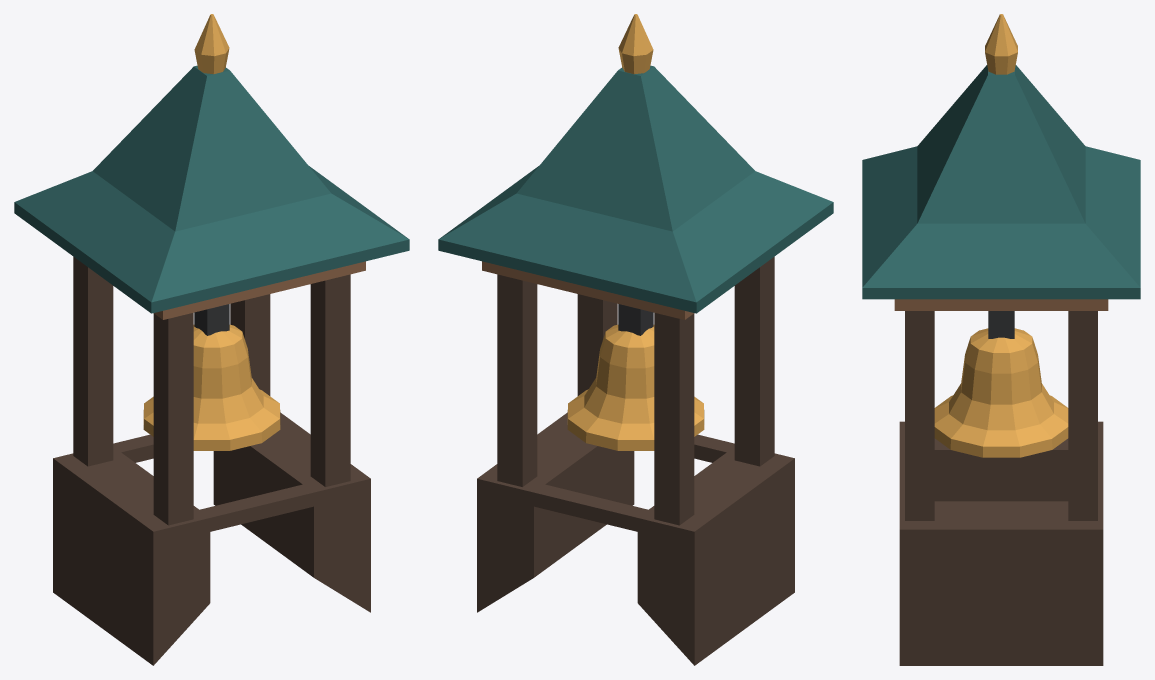
Rendered from ridge_bellcote.glb.
3 renders of one model, left to right at view 1: azimuth 30°, elevation 25°; view 2: azimuth 150°, elevation 25°; view 3: azimuth 270°, elevation 25°, orthographic.
Parts seen in each view (by area): view 1: Ridge bellcote; view 2: Ridge bellcote; view 3: Ridge bellcote.
Boxes of the visible parts, x1,y1,x2,y2 form: Ridge bellcote: (14, 14, 409, 665); Ridge bellcote: (438, 14, 833, 665); Ridge bellcote: (862, 14, 1140, 665).
Size of the model in its own units: 0.674 by 1.47 by 0.62.
